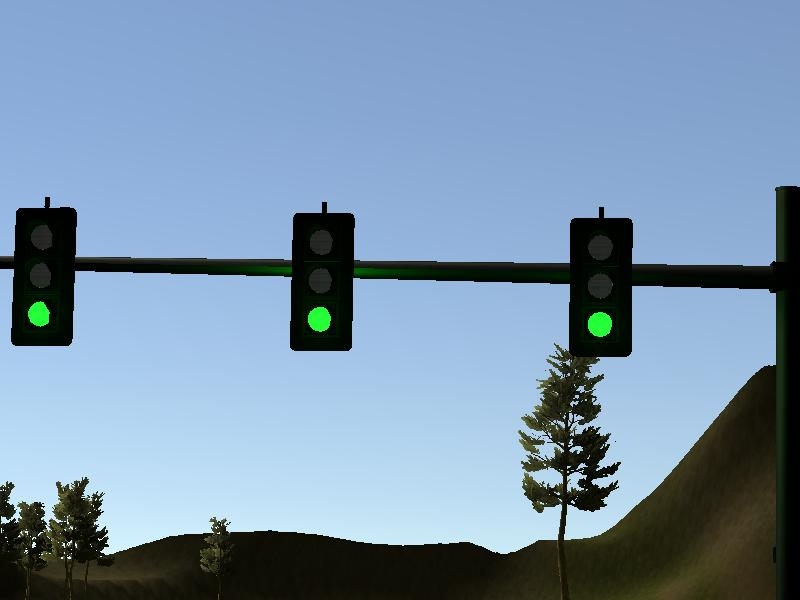green: (568, 218, 633, 356), (12, 207, 75, 345), (290, 211, 352, 350)
